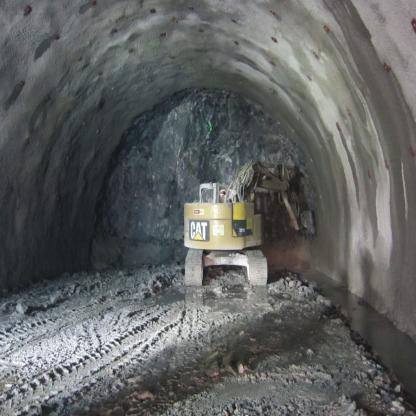excavator: (168, 132, 325, 306)
